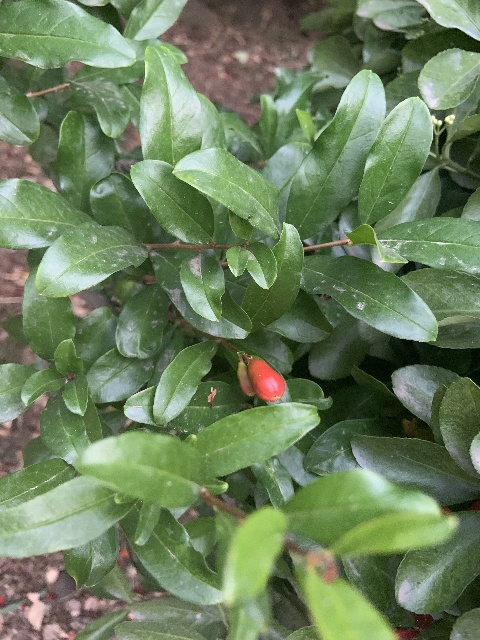bud: (247, 357, 285, 401), (237, 360, 255, 397)
